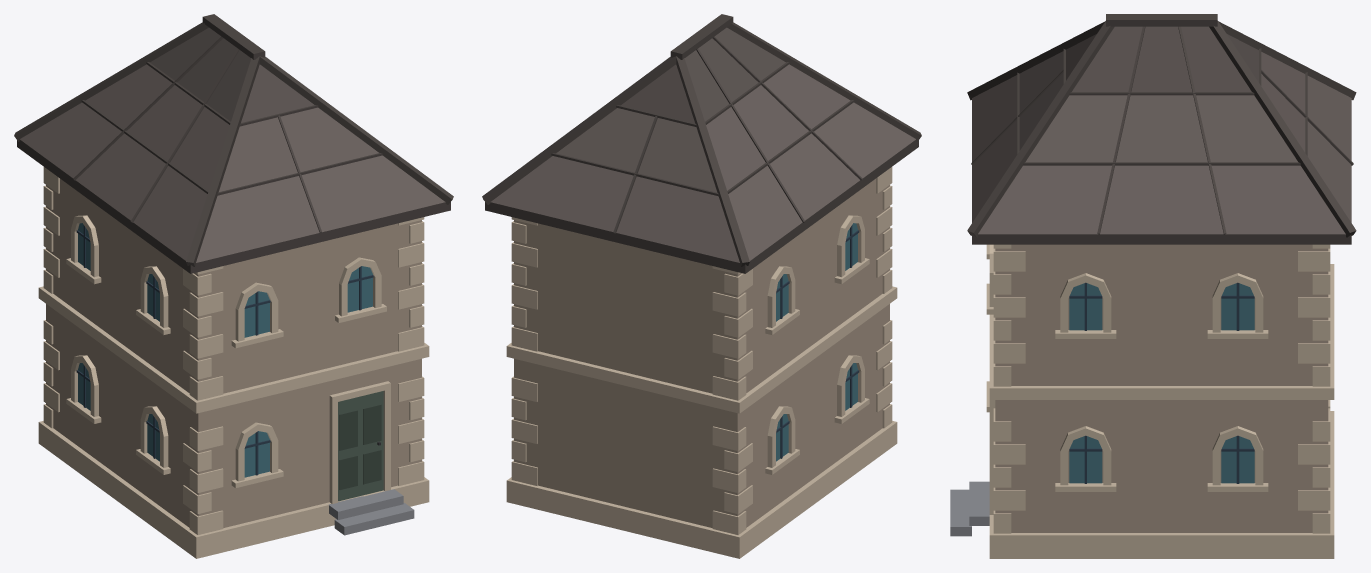
The model's file is residential house 3.fbx.
The picture shows the model from 3 angles, left to right: view 1: azimuth 30°, elevation 25°; view 2: azimuth 150°, elevation 25°; view 3: azimuth 270°, elevation 25°; orthographic projection. The views are drawn at different scales.
Parts seen in each view (by area): view 1: House_Body; view 2: House_Body; view 3: House_Body.
Boxes of the visible parts, x1,y1,x2,y2 form: House_Body: (14, 14, 453, 558); House_Body: (482, 14, 921, 558); House_Body: (950, 14, 1356, 558).
Size of the model in its own units: 467 by 731 by 561.
